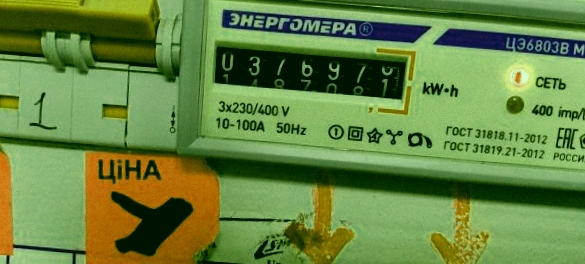0: (219, 48, 235, 71)
1: (378, 75, 389, 98)
3: (247, 53, 261, 75)
6: (299, 53, 315, 77)
7: (352, 58, 368, 82), (273, 52, 288, 76)
9: (325, 57, 341, 80)
screen: (200, 30, 419, 118)
